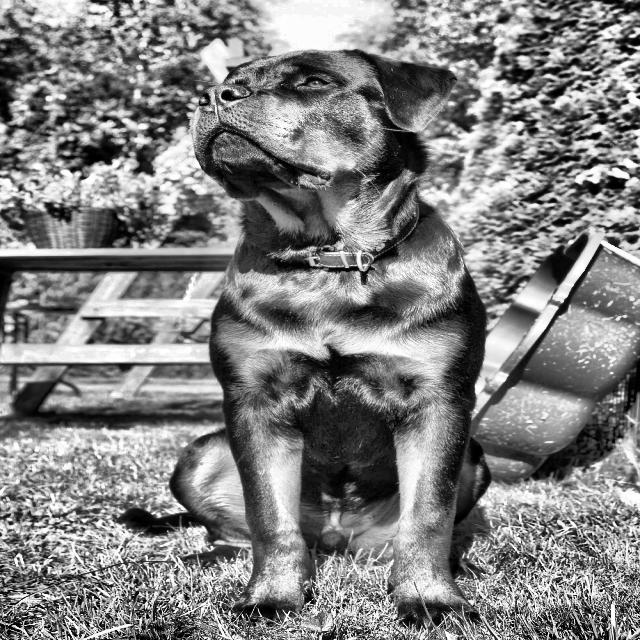rottweiler: (168, 22, 478, 257)
